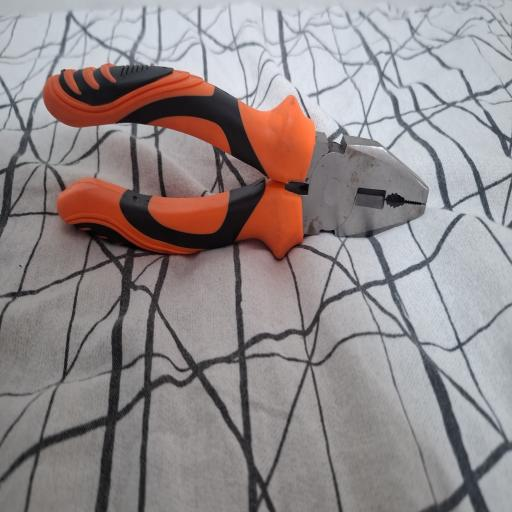alicate: (42, 62, 430, 262)
